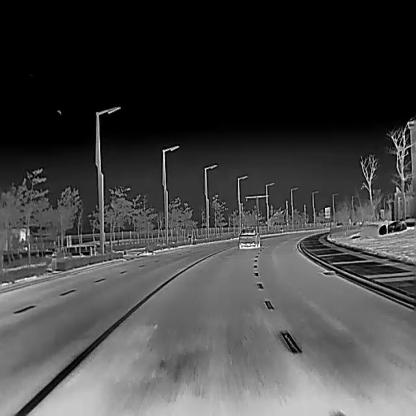car: (239, 228, 260, 248), (336, 222, 343, 226)
